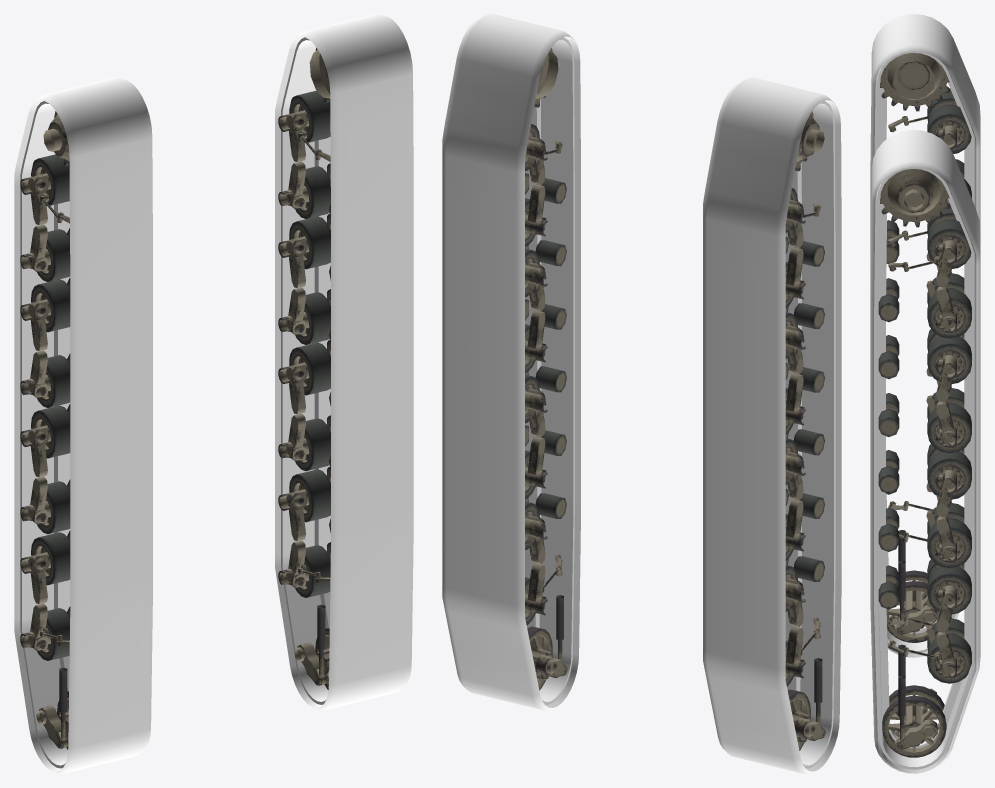
File: Chassis.glb
The picture shows the model from 3 angles, left to right: view 1: azimuth 30°, elevation 25°; view 2: azimuth 150°, elevation 25°; view 3: azimuth 270°, elevation 25°; orthographic projection. The views are drawn at different scales.
Parts seen in each view (by area): view 1: set_0_group_0, set_1_group_0, set_5_group_0, set_3_group_0, set_2_group_0, set_4_group_0; view 2: set_0_group_0, set_1_group_0, set_5_group_0, set_3_group_0, set_4_group_0, set_2_group_0; view 3: set_5_group_0, set_1_group_0, set_3_group_0, set_0_group_0, set_4_group_0.
Part boxes in pixels (x1,y1,x2,y2): set_0_group_0: (14, 77, 152, 773); set_1_group_0: (275, 14, 413, 710); set_5_group_0: (278, 47, 330, 689); set_3_group_0: (20, 111, 70, 749); set_2_group_0: (20, 229, 50, 271); set_4_group_0: (278, 166, 309, 209); set_0_group_0: (703, 77, 841, 773); set_1_group_0: (442, 14, 580, 710); set_5_group_0: (525, 48, 567, 690); set_3_group_0: (785, 111, 825, 750); set_4_group_0: (525, 191, 547, 236); set_2_group_0: (785, 254, 805, 299); set_5_group_0: (878, 169, 971, 757); set_1_group_0: (870, 130, 980, 773); set_3_group_0: (880, 53, 971, 642); set_0_group_0: (870, 14, 980, 657); set_4_group_0: (927, 265, 956, 332).
Bounding box in the file's own units: 3.9 × 7.1 × 1.16.
6 materials, 4 textured.
